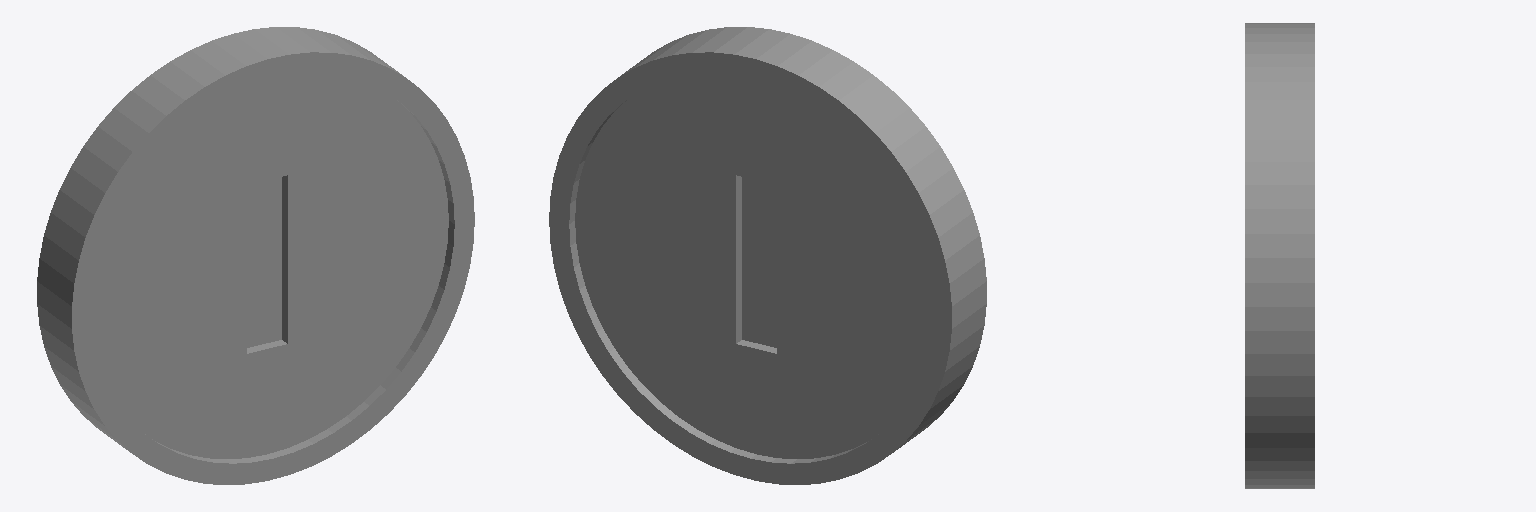
File: Collectable.obj
The picture shows the model from 3 angles: view 1: azimuth 30°, elevation 25°; view 2: azimuth 150°, elevation 25°; view 3: azimuth 270°, elevation 25°; orthographic projection.
Visible parts, largest first — view 1: Solid1; view 2: Solid1; view 3: Solid1.
Boxes of the visible parts, <box> form: Solid1: <box>37,27,474,484</box>; Solid1: <box>549,27,986,484</box>; Solid1: <box>1245,23,1314,488</box>.
Size of the model in its own units: 19.99 by 19.99 by 3.